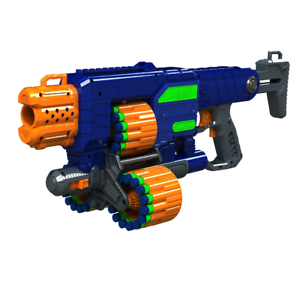Arma Falsa: (17, 49, 289, 231)
